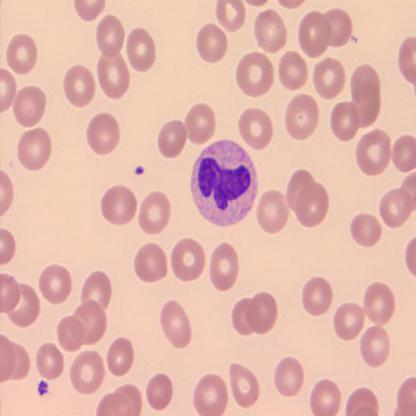Segmented neutrophil: (189, 136, 259, 228)
